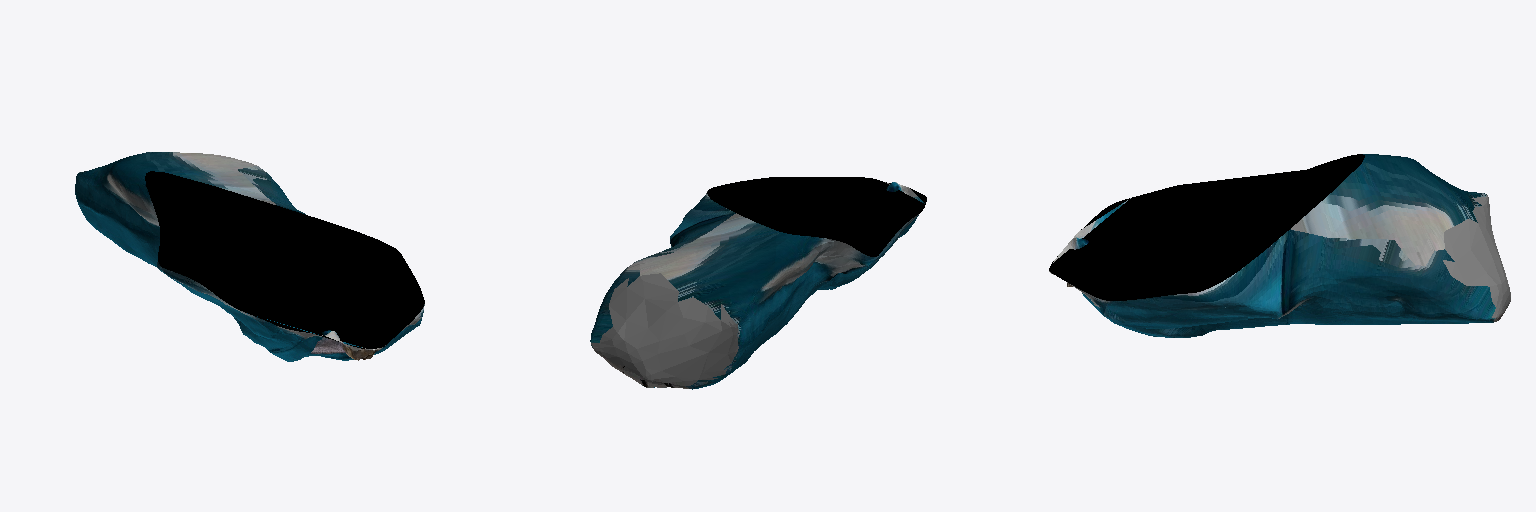
3 renders of one model, left to right at view 1: azimuth 30°, elevation 25°; view 2: azimuth 150°, elevation 25°; view 3: azimuth 270°, elevation 25°, orthographic.
Bounding box in the file's own units: 36.18 × 23.22 × 70.79.
3 materials, 1 textured.